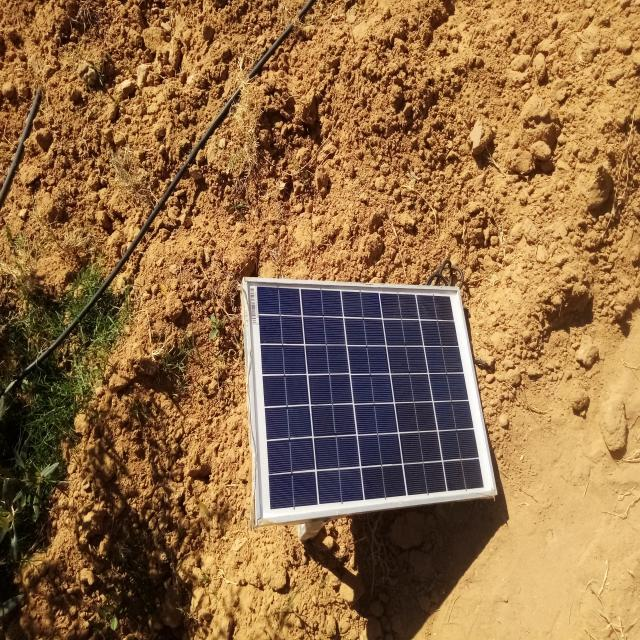no faulty: (246, 279, 496, 523)
